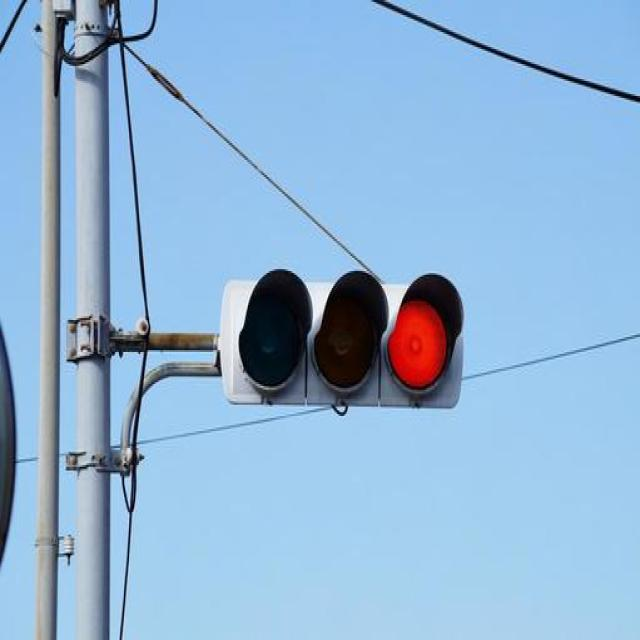red light: (222, 272, 463, 410)
